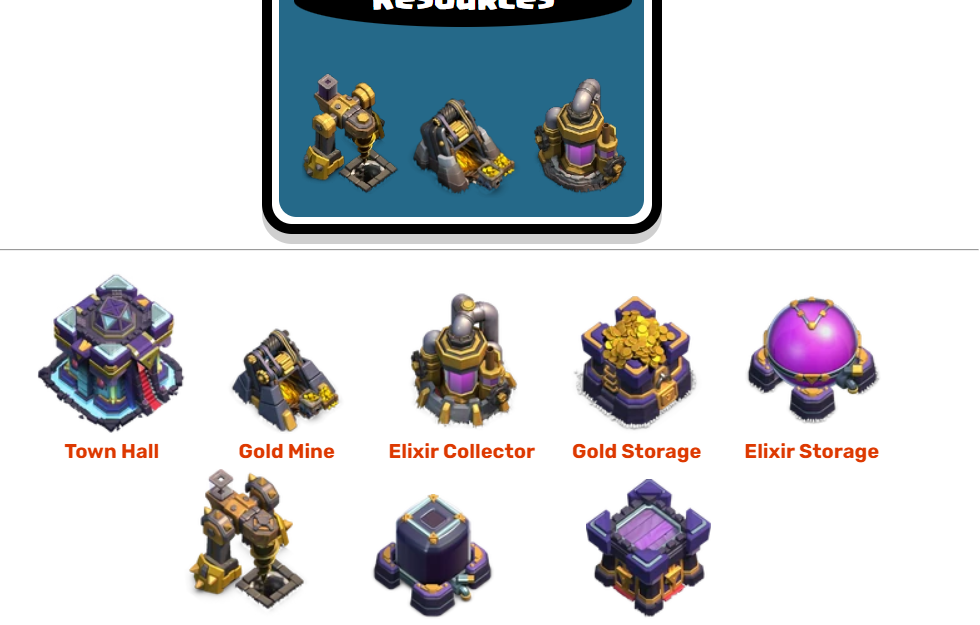dark_elixir_colector: (184, 467, 308, 614), (293, 63, 406, 196)
elixir_colector: (400, 290, 515, 423), (523, 80, 635, 195)
gold_mine: (226, 325, 342, 439), (409, 85, 518, 198)
